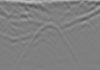hyperbola: (19, 20, 80, 61)
